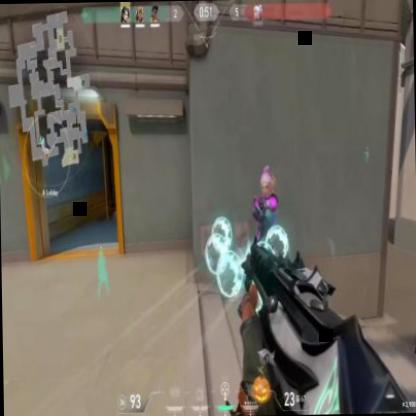enemy: (249, 165, 280, 320)
enemy_head: (260, 166, 270, 198)
